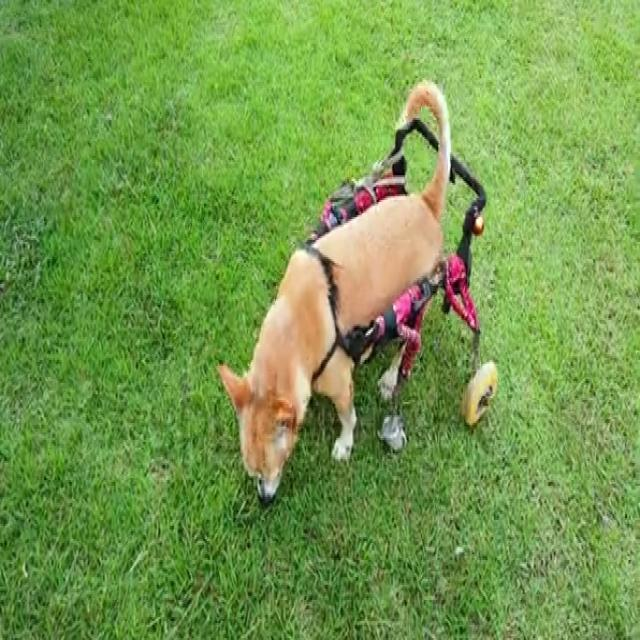injured-animals: (213, 74, 458, 509)
